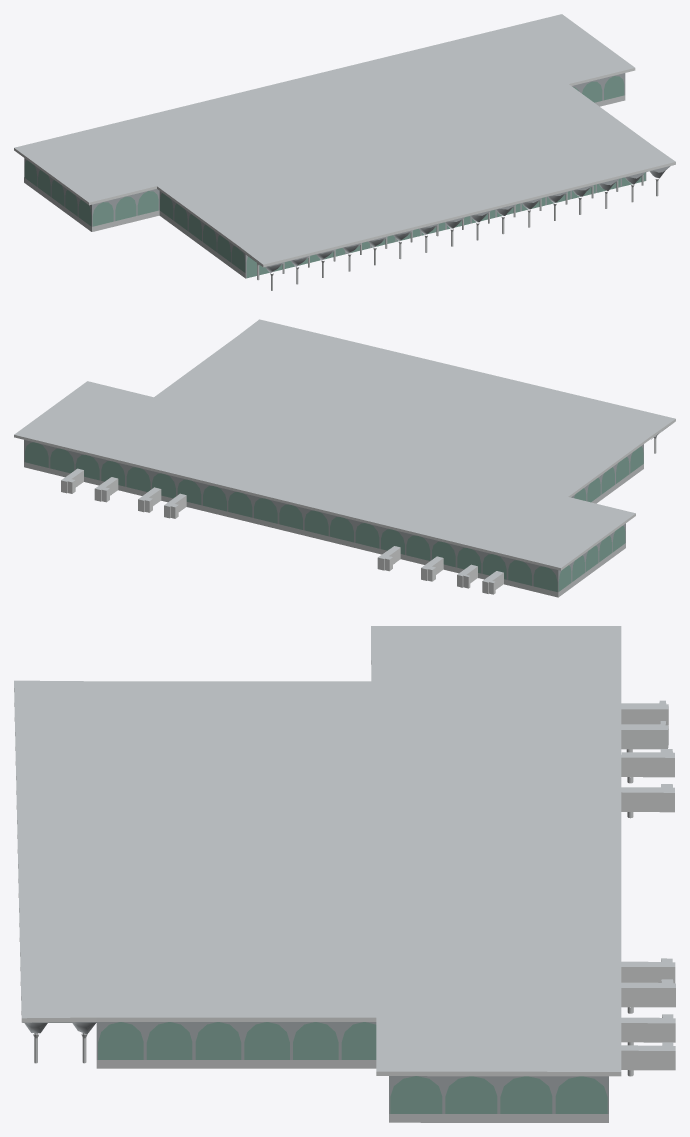
The model's file is istanbul-airport-terminal.glb.
3 views of the same model, one above another, from view 1: azimuth 30°, elevation 25°; view 2: azimuth 150°, elevation 25°; view 3: azimuth 270°, elevation 25° (orthographic). The views are drawn at different scales.
Visible parts, largest first — view 1: Istanbul Airport terminal; view 2: Istanbul Airport terminal; view 3: Istanbul Airport terminal.
Boxes of the visible parts, x1,y1,x2,y2 form: Istanbul Airport terminal: [14, 14, 675, 290]; Istanbul Airport terminal: [14, 319, 675, 597]; Istanbul Airport terminal: [14, 626, 675, 1122].
Size of the model in its own units: 765 by 45 by 480.
